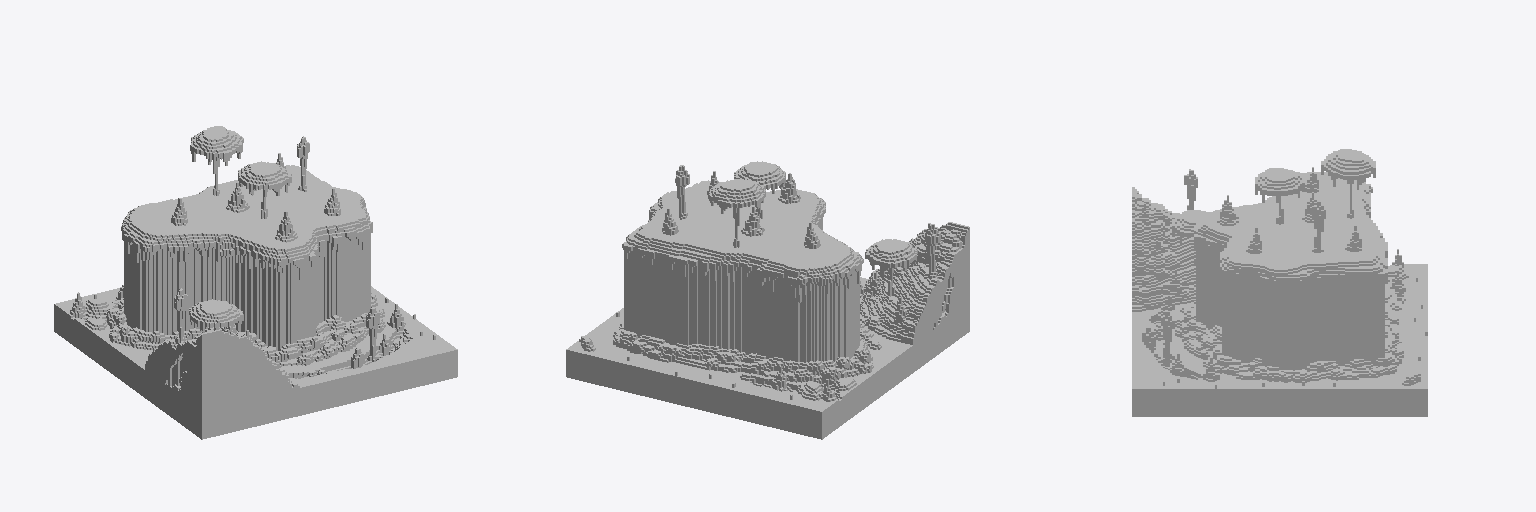
Rendered from Map (15).obj.
3 views of the same model, side by side, from view 1: azimuth 30°, elevation 25°; view 2: azimuth 150°, elevation 25°; view 3: azimuth 270°, elevation 25° (orthographic).
Visible parts, largest first — view 1: ALL MAP!!!!!!!!!!!-12; view 2: ALL MAP!!!!!!!!!!!-12; view 3: ALL MAP!!!!!!!!!!!-12.
Part boxes in pixels (bbox=[...]): ALL MAP!!!!!!!!!!!-12: bbox=[54, 126, 457, 439]; ALL MAP!!!!!!!!!!!-12: bbox=[566, 161, 969, 439]; ALL MAP!!!!!!!!!!!-12: bbox=[1132, 149, 1427, 416].
Bounding box in the file's own units: 125 × 92 × 125.